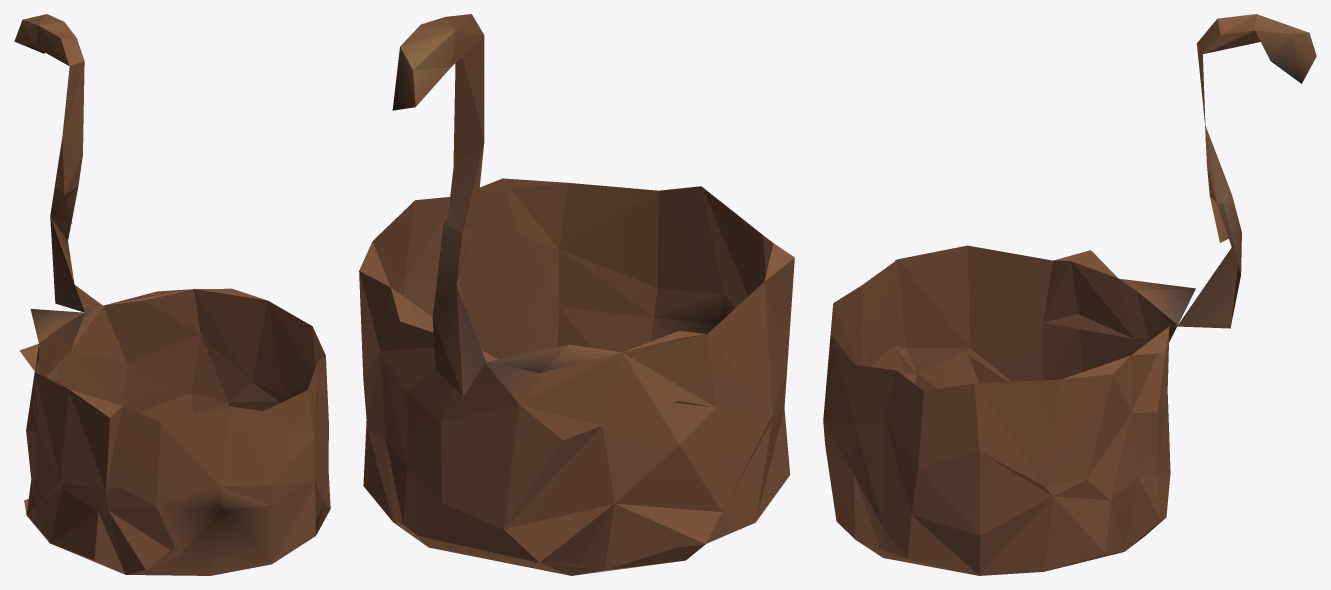
Rendered from pot-still.glb.
The picture shows the model from 3 angles, left to right: view 1: azimuth 30°, elevation 25°; view 2: azimuth 150°, elevation 25°; view 3: azimuth 270°, elevation 25°; orthographic projection. The views are drawn at different scales.
Parts seen in each view (by area): view 1: pot-still-far; view 2: pot-still-far; view 3: pot-still-far.
Part boxes in pixels (x1,y1,x2,y2): pot-still-far: [14, 14, 330, 575]; pot-still-far: [359, 14, 794, 575]; pot-still-far: [823, 14, 1316, 575].
Size of the model in its own units: 0.6195 by 0.9717 by 0.8886.
